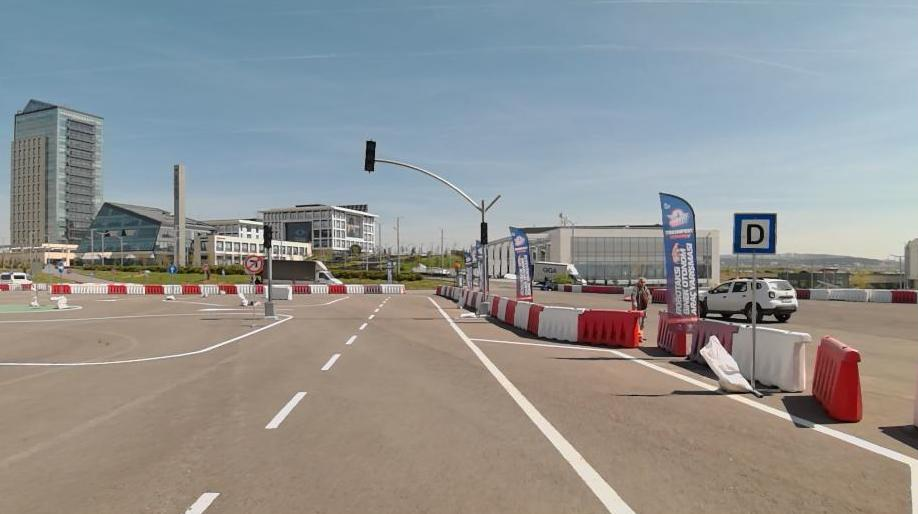nesne: (0, 292, 916, 513), (176, 293, 632, 513), (0, 292, 394, 512), (474, 335, 917, 512), (480, 336, 917, 512), (425, 293, 636, 512), (0, 310, 293, 366), (656, 311, 809, 393), (486, 292, 640, 352), (733, 327, 807, 395), (808, 337, 861, 426), (697, 276, 798, 322), (1, 310, 262, 326), (694, 331, 754, 394), (577, 308, 641, 351), (51, 283, 264, 294), (796, 285, 917, 304), (689, 316, 743, 356), (728, 214, 778, 257), (655, 309, 691, 360), (263, 259, 341, 282), (537, 307, 582, 345), (267, 388, 307, 427), (291, 282, 404, 294), (532, 260, 588, 284), (809, 288, 890, 302), (632, 276, 649, 341), (183, 491, 219, 513), (273, 295, 352, 305), (522, 302, 545, 336), (552, 283, 624, 292), (510, 302, 530, 331), (0, 281, 50, 290), (492, 295, 507, 323), (319, 352, 340, 371), (70, 283, 106, 294), (889, 288, 917, 302), (243, 254, 264, 272), (502, 299, 516, 325), (270, 284, 293, 299), (581, 286, 625, 293), (49, 294, 69, 308), (126, 282, 148, 293), (199, 282, 219, 294), (649, 289, 666, 303), (487, 295, 496, 321), (236, 289, 249, 307), (359, 284, 380, 295), (380, 284, 403, 294), (307, 284, 332, 293), (106, 284, 126, 295), (143, 283, 163, 293), (326, 284, 346, 294), (164, 283, 182, 294), (51, 284, 70, 294), (181, 285, 201, 294), (345, 284, 363, 294), (219, 283, 236, 293), (291, 284, 309, 293), (794, 288, 808, 299), (31, 282, 48, 290), (28, 295, 39, 307), (237, 284, 253, 292), (346, 333, 357, 344), (7, 283, 21, 291), (571, 284, 582, 292), (561, 284, 572, 292), (358, 321, 367, 330), (254, 284, 262, 294), (21, 284, 32, 289), (0, 284, 9, 290), (555, 285, 561, 291)
